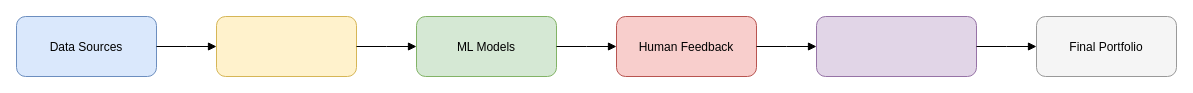
Some shapes in this 1193 by 93 pixel diagram are drawn without their labels. Here are the shapes that lost their labels. From the top down, the centre of each, then its label:
At point (286, 46): "Preprocessing".
At point (896, 46): "Portfolio Optimizer".
